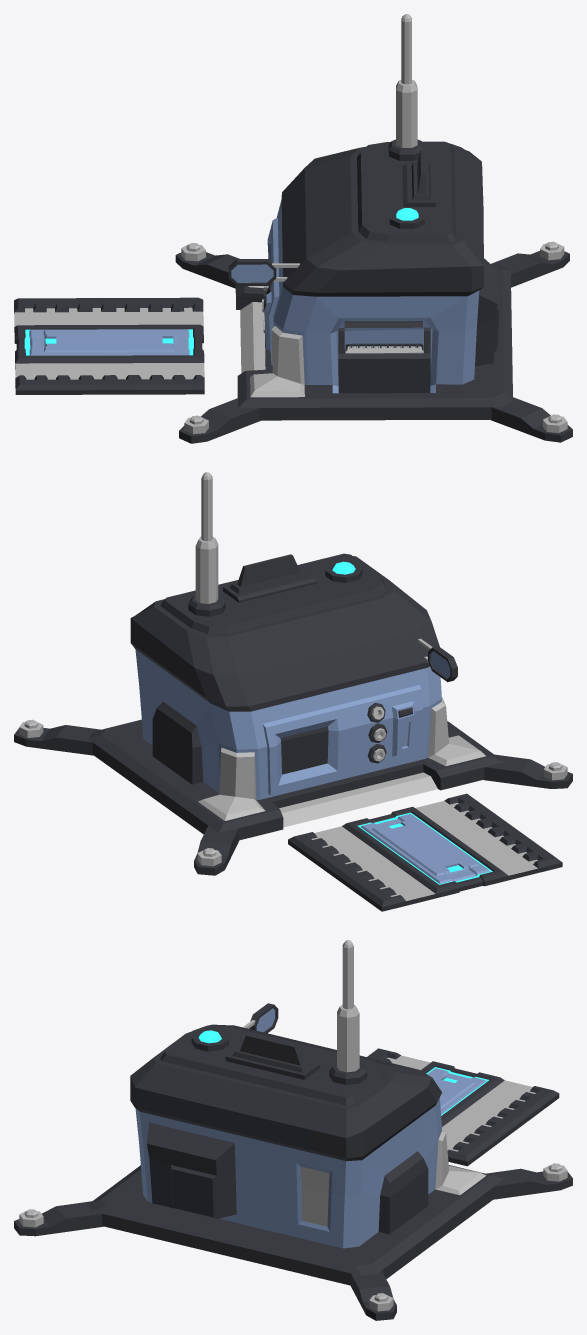
The model's file is CheckPoint.fbx.
3 views of the same model, one above another, from view 1: azimuth 30°, elevation 25°; view 2: azimuth 150°, elevation 25°; view 3: azimuth 270°, elevation 25° (orthographic).
Parts seen in each view (by area): view 1: 立方体.062; view 2: 立方体.062; view 3: 立方体.062.
Part boxes in pixels (x1,y1,x2,y2): 立方体.062: (14, 14, 572, 443); 立方体.062: (14, 472, 572, 911); 立方体.062: (14, 940, 572, 1320).
Bounding box in the file's own units: 845 × 750 × 438.
